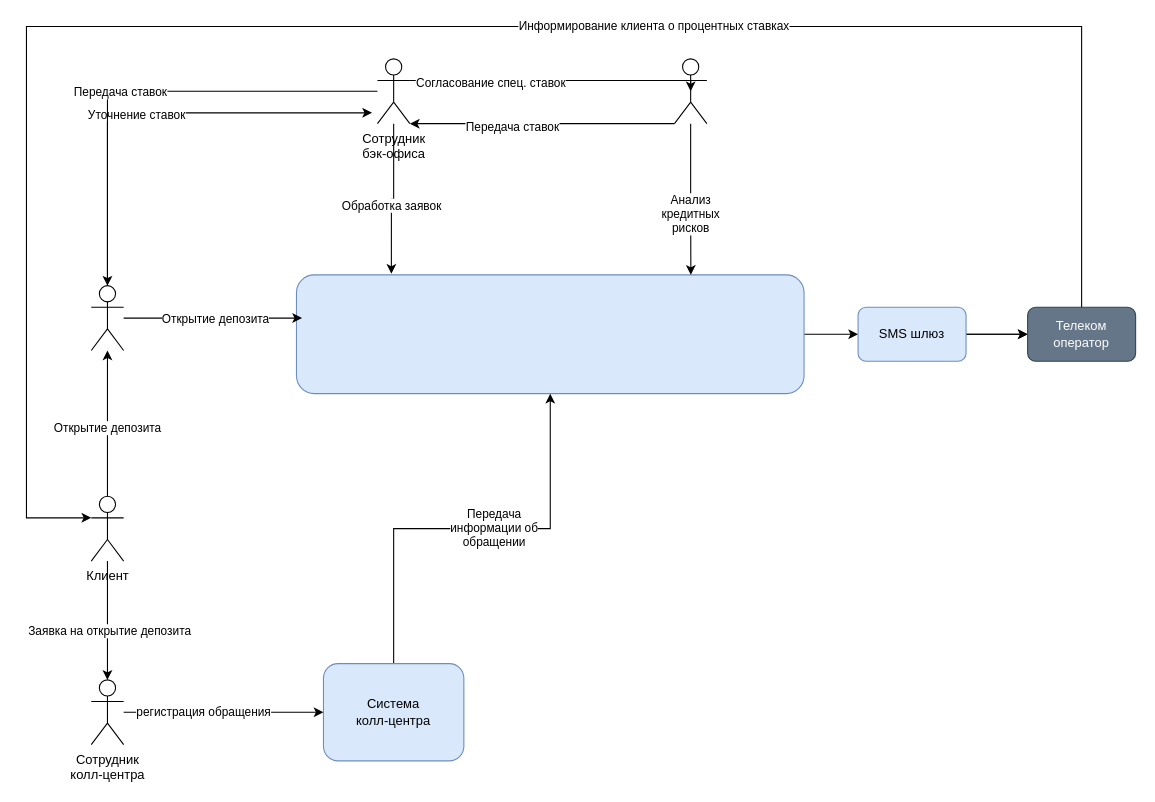
The diagram is 1155 pixels wide and 802 high, and some of its shapes have lost their labels. The centre of each missing label's shape, as x and y in pixels:
Автоматизированная банковская система: (x=549, y=334)
Сотрудник кредитного отдела: (x=690, y=91)
Сотрудник фронт-офиса: (x=107, y=317)
